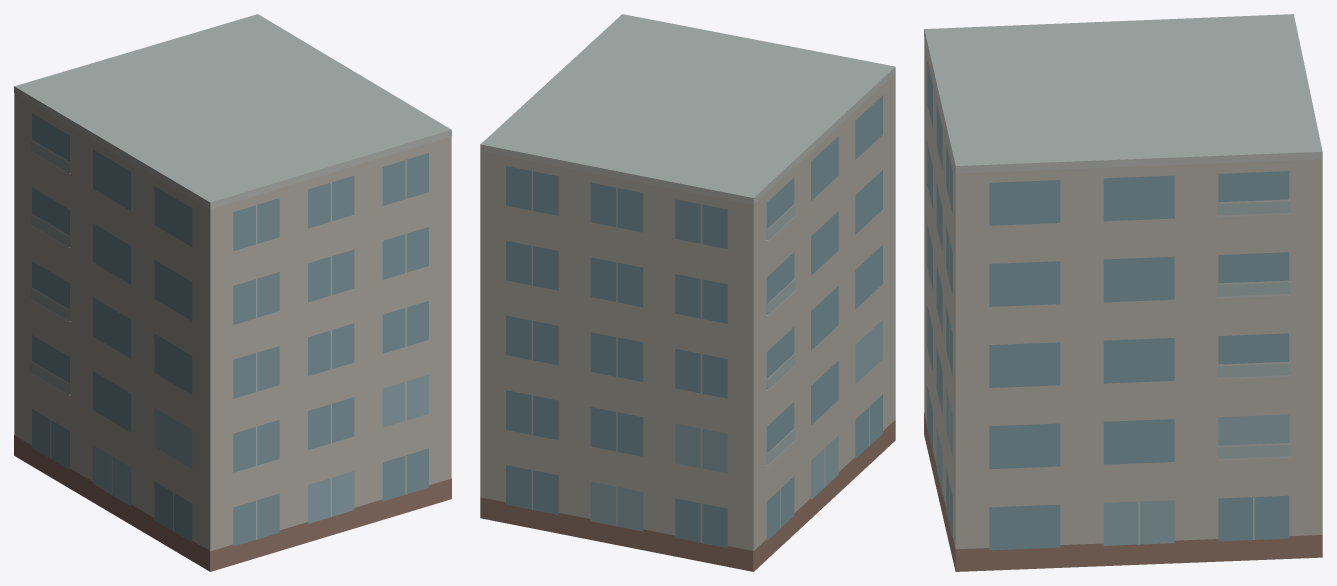
The model's file is survey-upis-32549624.glb.
The picture shows the model from 3 angles, left to right: view 1: azimuth 30°, elevation 25°; view 2: azimuth 150°, elevation 25°; view 3: azimuth 270°, elevation 25°; orthographic projection. The views are drawn at different scales.
Visible parts, largest first — view 1: survey-upis-32549624.tmp; view 2: survey-upis-32549624.tmp; view 3: survey-upis-32549624.tmp.
Part boxes in pixels (x1,y1,x2,y2): survey-upis-32549624.tmp: (14,14,451,571); survey-upis-32549624.tmp: (480,14,895,571); survey-upis-32549624.tmp: (924,14,1322,571).
Bounding box in the file's own units: 10.78 × 13.4 × 11.94.
